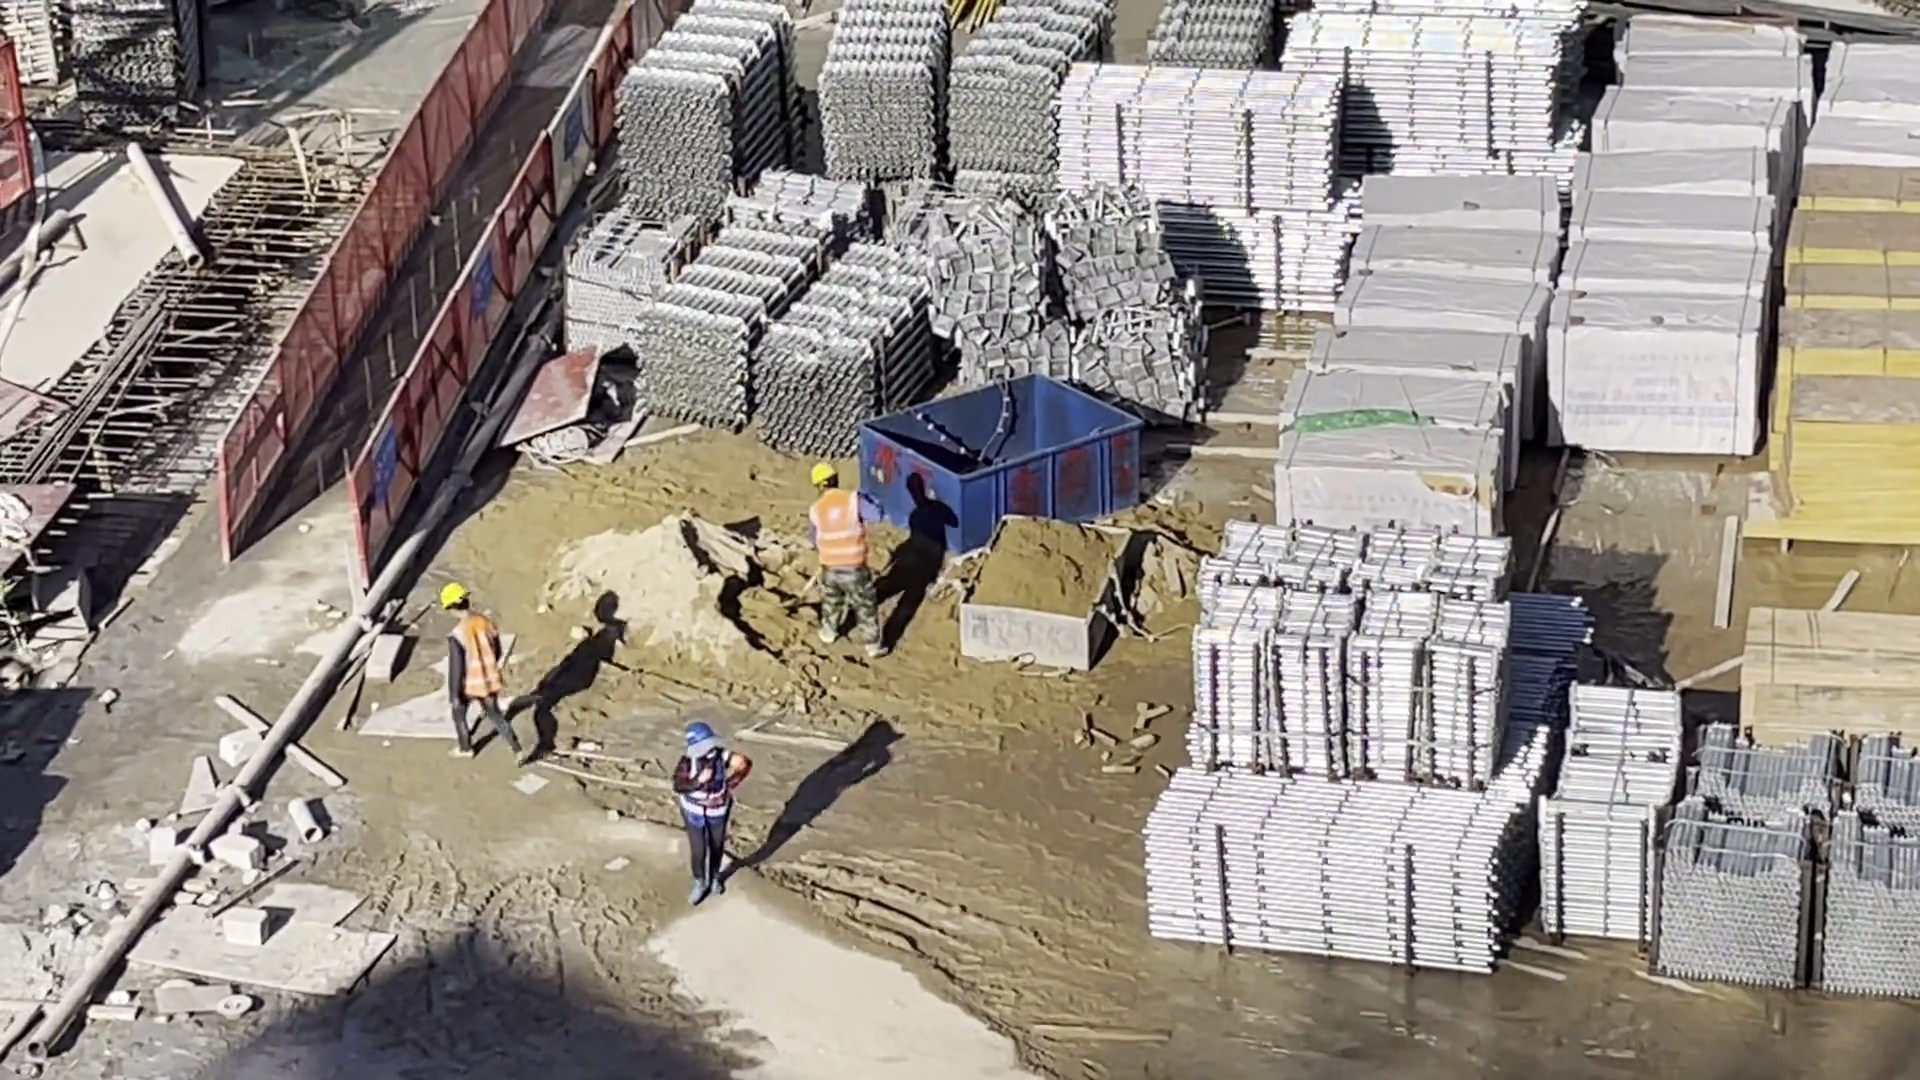board: (1781, 170, 1920, 555), (1740, 607, 1920, 749)
fence: (228, 3, 636, 530)
helmet: (438, 583, 467, 610), (810, 462, 837, 486), (684, 723, 714, 746)
hopper: (862, 372, 1140, 553), (956, 511, 1129, 674)
person: (438, 585, 527, 766), (806, 465, 888, 662), (674, 723, 738, 903)
scaffold: (1198, 530, 1513, 777), (1148, 772, 1512, 965), (1661, 729, 1920, 998), (1058, 64, 1344, 291), (647, 226, 935, 445), (816, 3, 1100, 181), (1285, 1, 1586, 160), (624, 6, 790, 207), (1547, 683, 1667, 939), (73, 1, 200, 124), (1, 2, 59, 88)
slogan: (369, 419, 396, 500), (471, 241, 494, 323)
vest: (806, 485, 870, 566), (450, 616, 501, 699), (683, 765, 728, 829)
